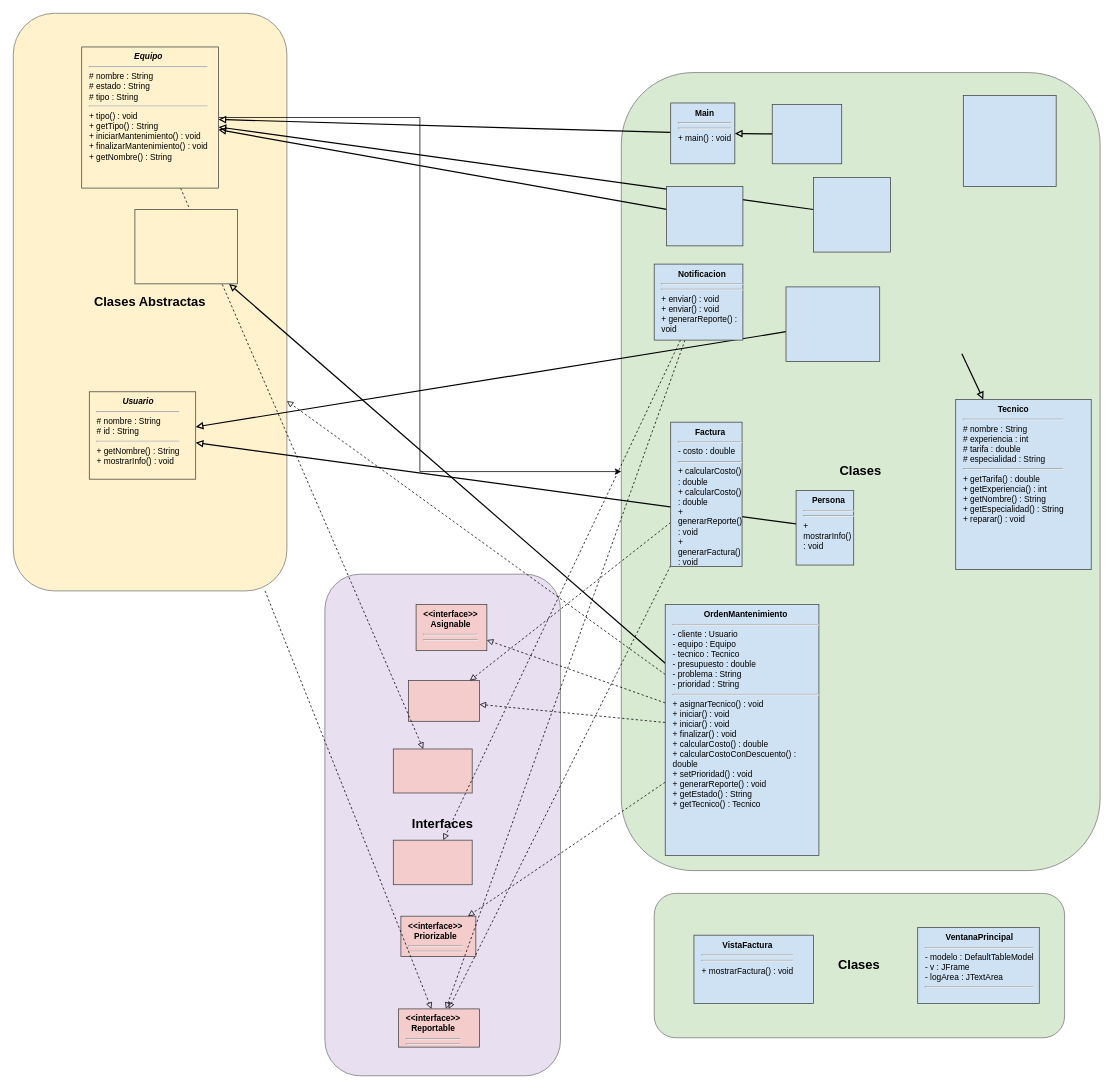
Image size: 1113x1089. Some labels were removed from this diagram. Here are the shapes that lost their labels. From the top down, the centre of each, then its label:
pixel 806 134: Computador + tipo() : void
pixel 1009 141: AsignadorTecnico + asignar() : Tecnico + asignar() : Tecnico
pixel 704 216: Impresora + tipo() : void
pixel 851 214: Televisor + tipo() : void
pixel 186 246: OrdenBase # estado : String + iniciar() : void + finalizar() : void
pixel 832 323: Empresa - nit : String + mostrarInfo() : void
pixel 443 700: <<interface>> Calculable
pixel 432 770: <<interface>> Mantenible
pixel 432 862: <<interface>> Notificable
